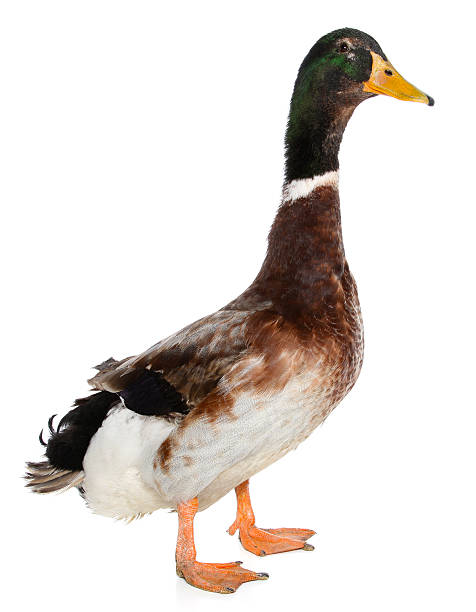goose: (22, 23, 442, 596)
